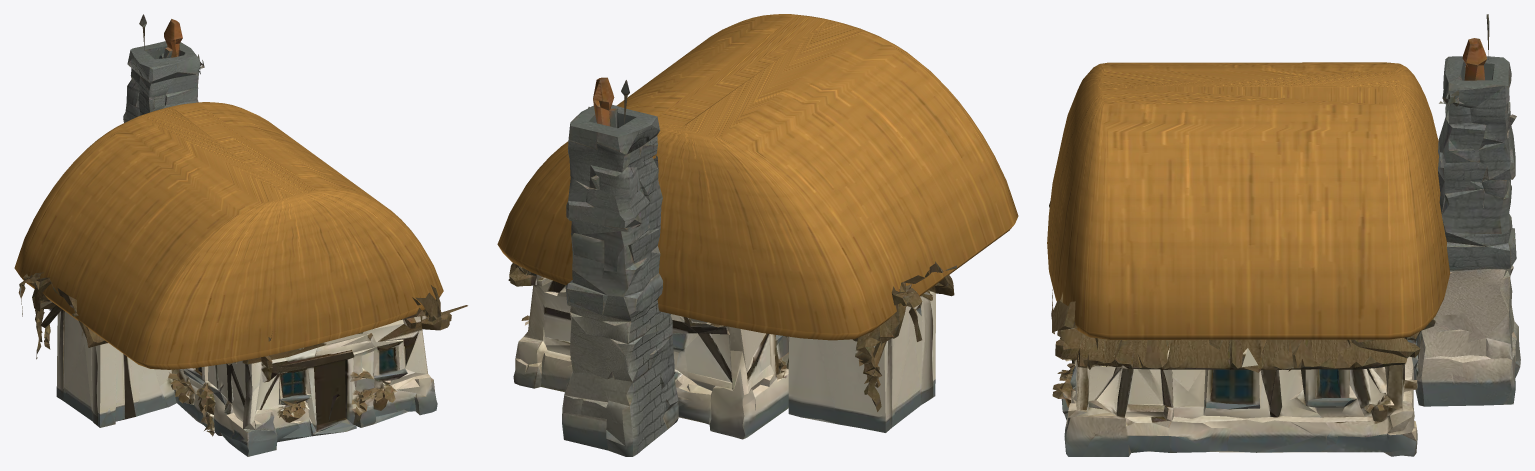
File: cottage.glb
The picture shows the model from 3 angles, left to right: view 1: azimuth 30°, elevation 25°; view 2: azimuth 150°, elevation 25°; view 3: azimuth 270°, elevation 25°; orthographic projection. The views are drawn at different scales.
Visible parts, largest first — view 1: cottage; view 2: cottage; view 3: cottage.
Part boxes in pixels (<box>): cottage: <box>14,14,467,456</box>; cottage: <box>497,14,1018,456</box>; cottage: <box>1047,14,1520,456</box>.
Bounding box in the file's own units: 8.87 × 7.5 × 8.66.
Materials: 2 (2 with a texture image).
